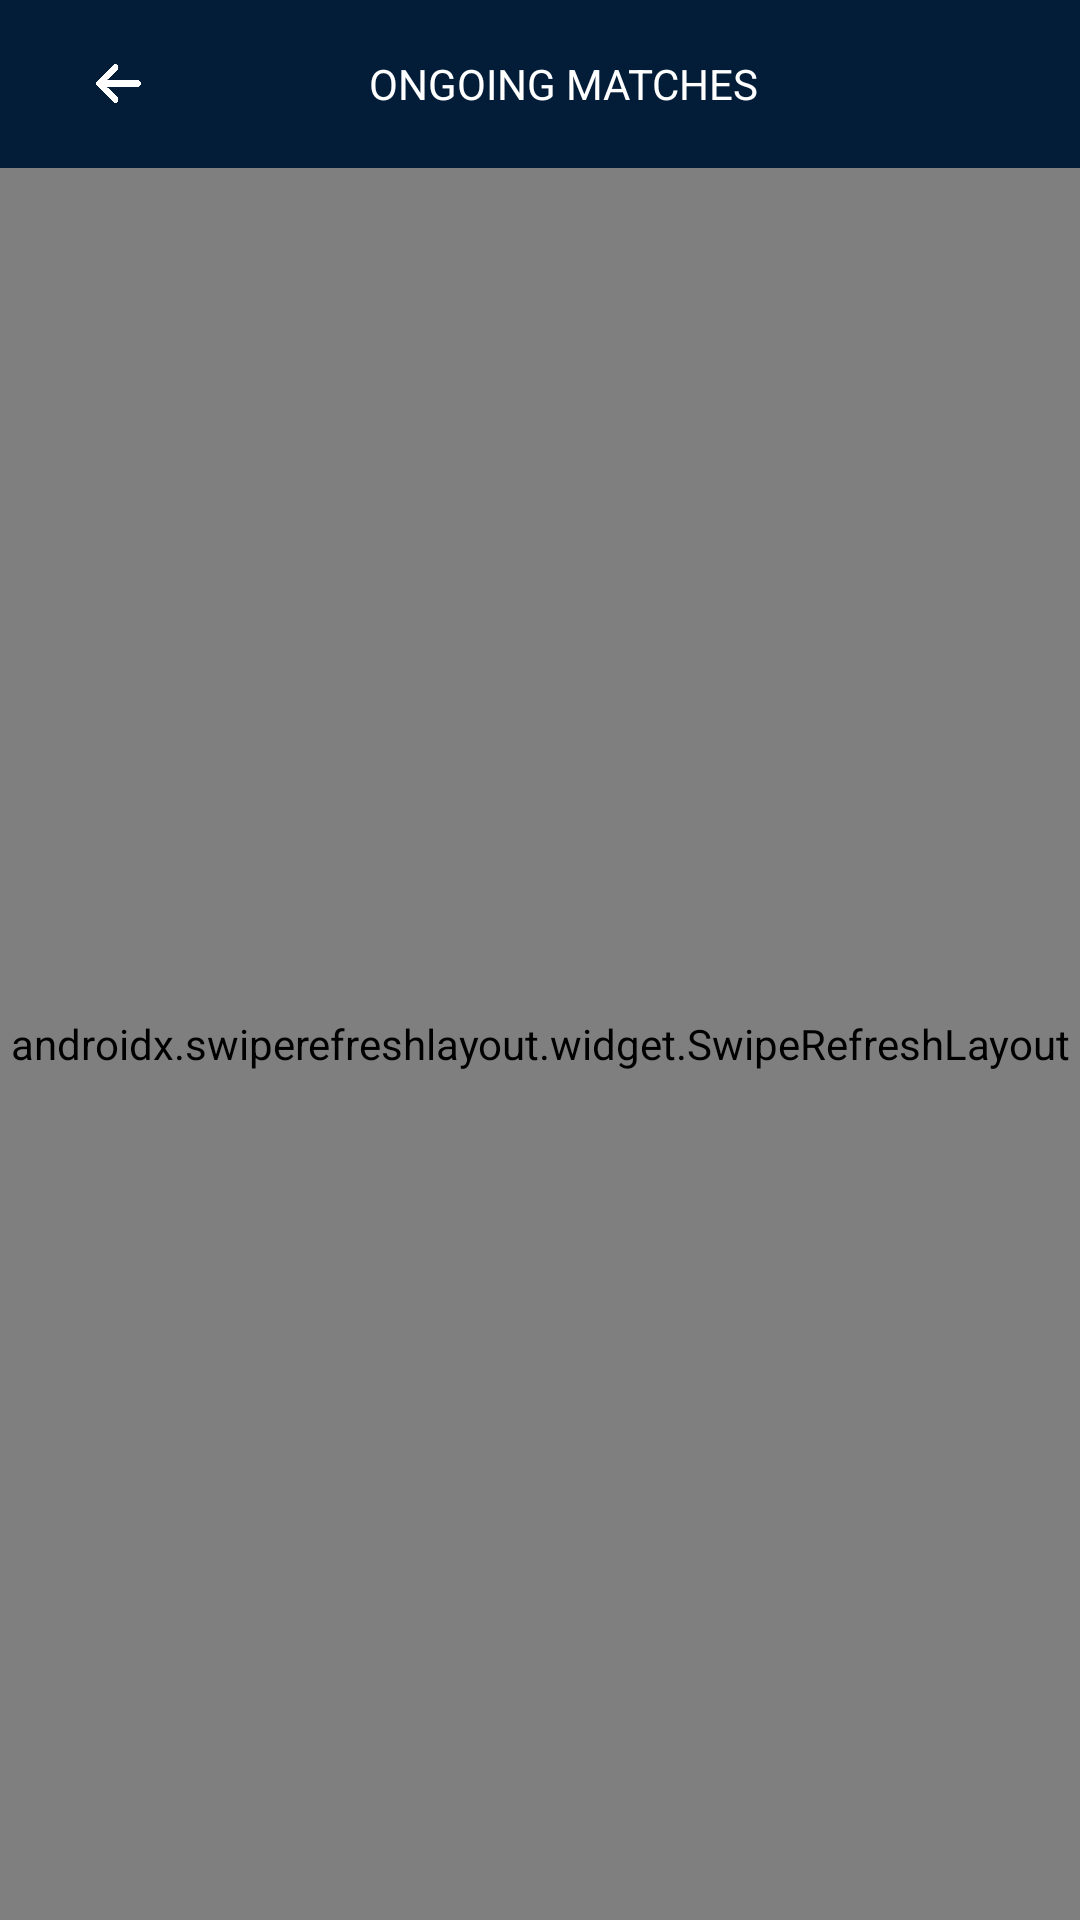

Icons on this 1080 x 1920 Android screen, each with its box as (x1, y1, x2, y2):
Back: (96, 64, 141, 103)
